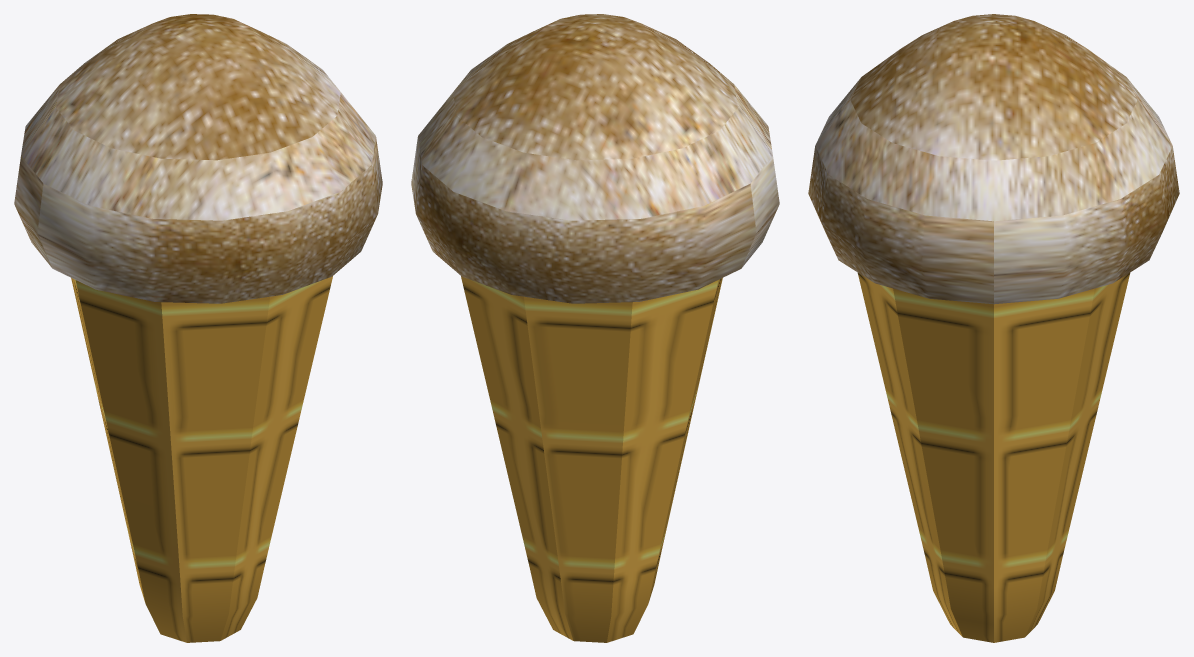
The model's file is IceCreamG.fbx.
The picture shows the model from 3 angles, left to right: view 1: azimuth 30°, elevation 25°; view 2: azimuth 150°, elevation 25°; view 3: azimuth 270°, elevation 25°; orthographic projection.
Visible parts, largest first — view 1: IceCreamG, IceCreamCorn_G; view 2: IceCreamG, IceCreamCorn_G; view 3: IceCreamG, IceCreamCorn_G.
Boxes of the visible parts, <box> form: IceCreamG: <box>14,14,382,303</box>; IceCreamCorn_G: <box>71,276,332,642</box>; IceCreamG: <box>411,14,779,303</box>; IceCreamCorn_G: <box>461,276,722,642</box>; IceCreamG: <box>808,14,1179,304</box>; IceCreamCorn_G: <box>857,273,1130,642</box>.
Bounding box in the file's own units: 106 × 192 × 106.
